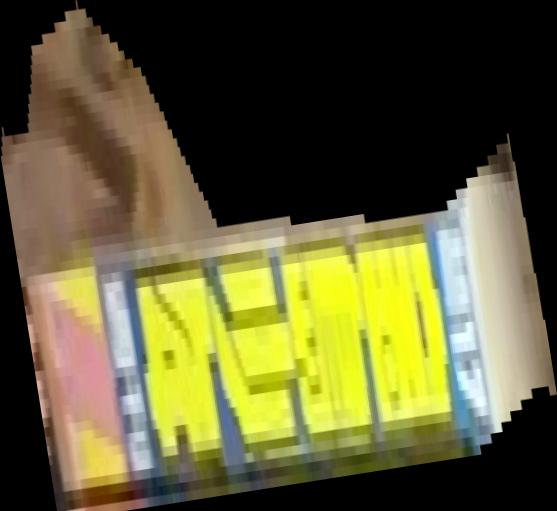flat: (1, 1, 557, 511)
